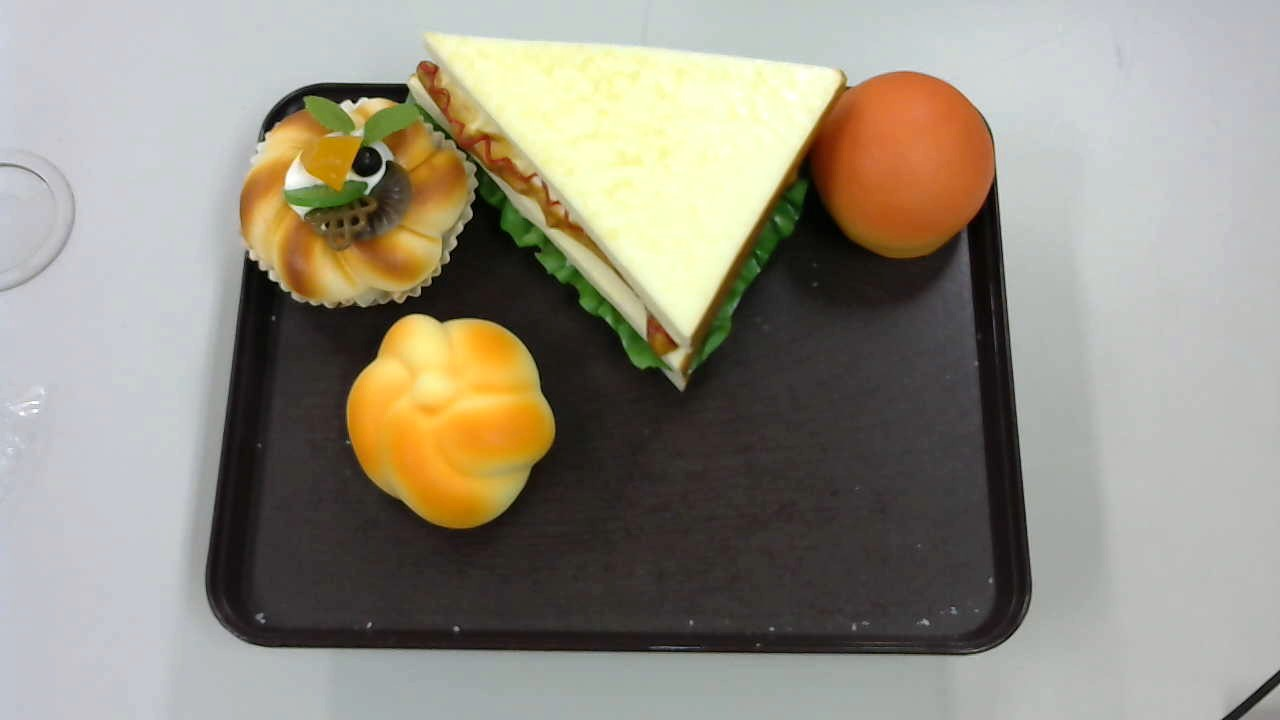bun: (812, 70, 995, 260)
fruit tart: (237, 92, 477, 308)
sandwich: (406, 29, 848, 392)
twist bread: (345, 313, 557, 532)
